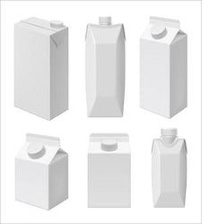carton: (10, 12, 72, 121), (134, 13, 190, 120), (80, 10, 129, 120), (12, 130, 71, 211), (144, 125, 194, 212), (84, 128, 133, 210)
